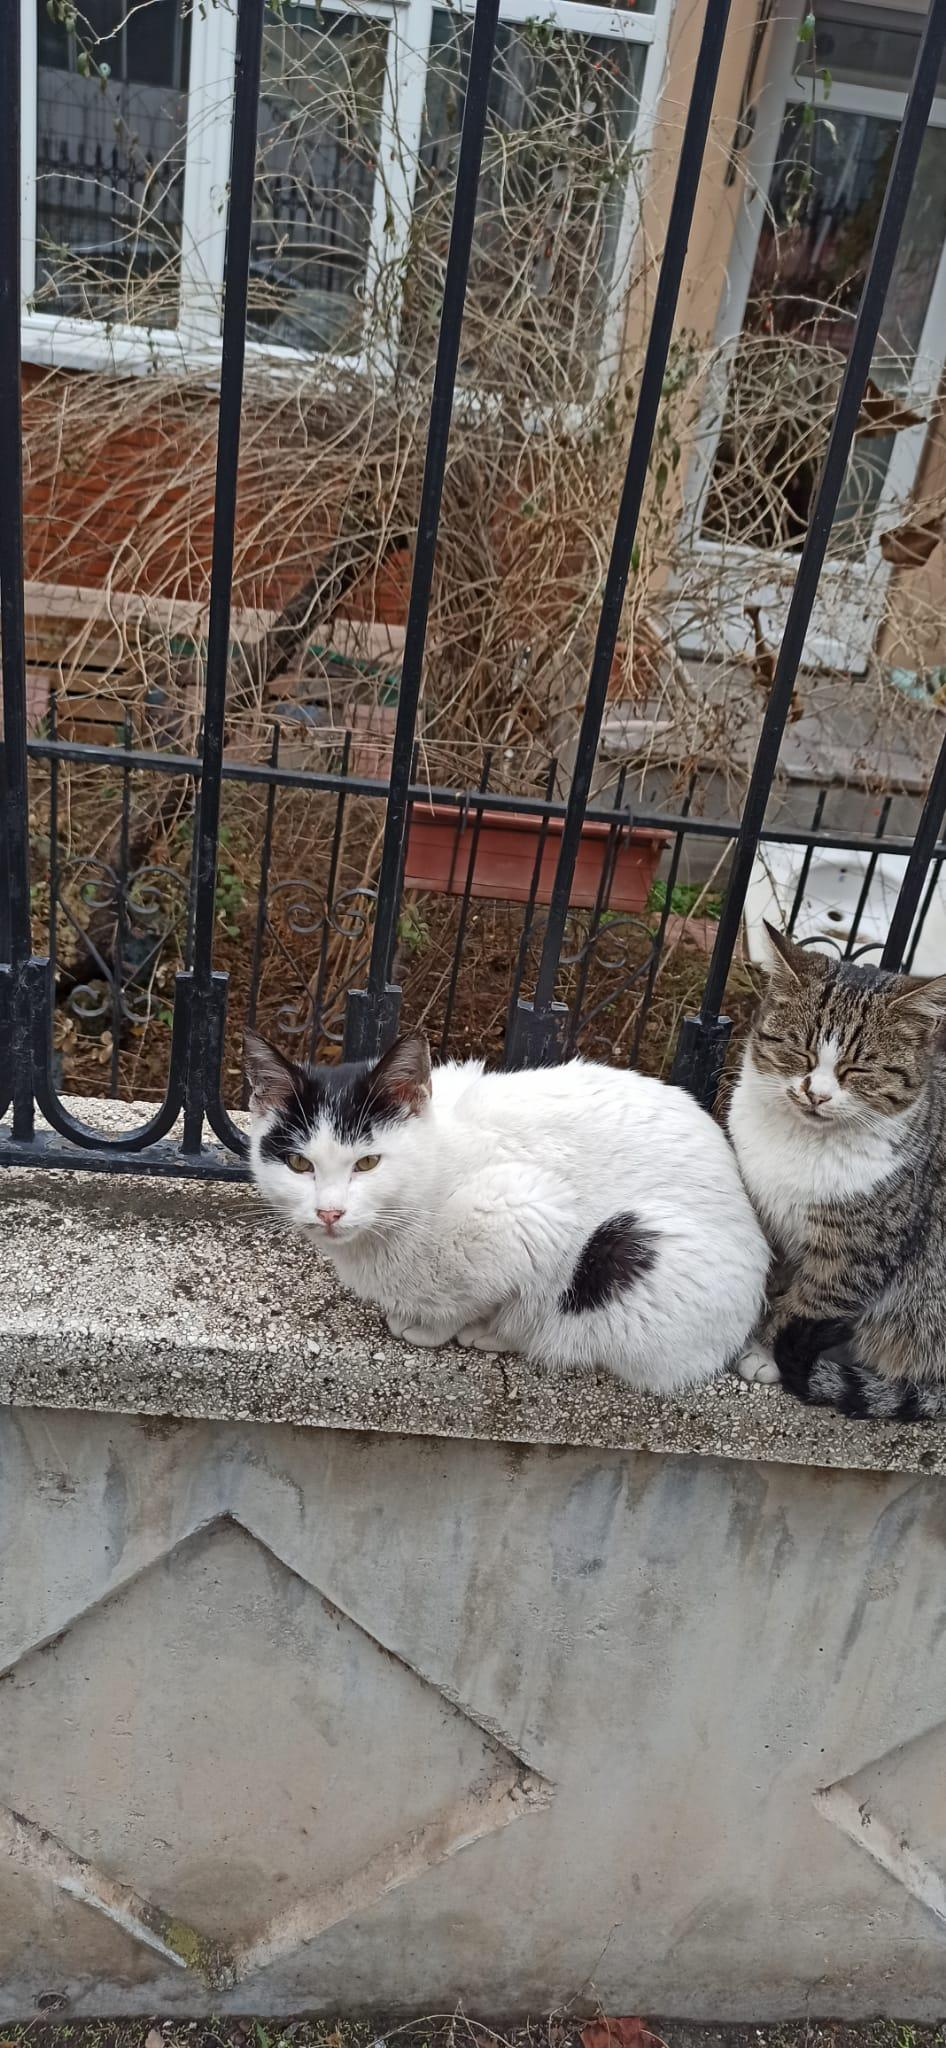kedo: (238, 1033, 770, 1395), (728, 920, 946, 1420)
